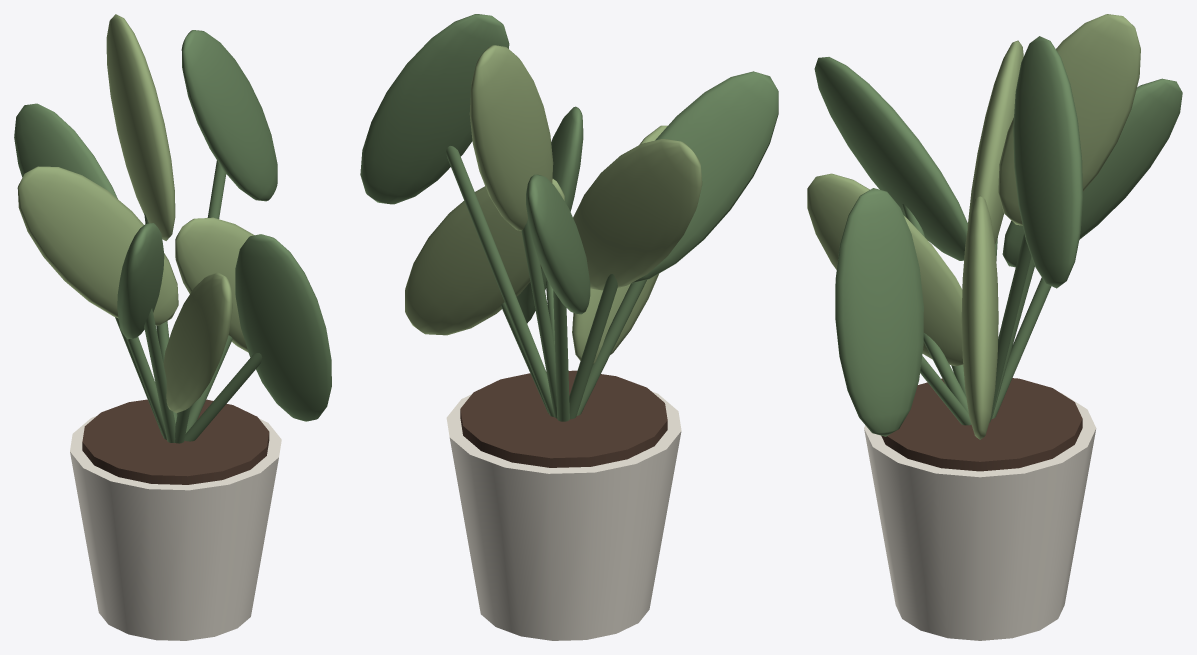
Rendered from plant.glb.
The picture shows the model from 3 angles, left to right: view 1: azimuth 30°, elevation 25°; view 2: azimuth 150°, elevation 25°; view 3: azimuth 270°, elevation 25°; orthographic projection. The views are drawn at different scales.
Parts seen in each view (by area): view 1: Plant_leaf, Plant_leafLight, Plant_cream, Plant_hair; view 2: Plant_leaf, Plant_leafLight, Plant_cream, Plant_hair; view 3: Plant_leaf, Plant_cream, Plant_leafLight, Plant_hair.
Boxes of the visible parts, x1,y1,x2,y2 form: Plant_leaf: (14, 30, 331, 443); Plant_leafLight: (17, 14, 254, 413); Plant_cream: (70, 416, 281, 640); Plant_hair: (82, 399, 269, 484); Plant_leaf: (360, 14, 778, 421); Plant_leafLight: (405, 45, 702, 364); Plant_cream: (446, 391, 681, 640); Plant_hair: (460, 370, 667, 467); Plant_leaf: (814, 36, 1182, 436); Plant_cream: (864, 393, 1096, 640); Plant_leafLight: (807, 14, 1140, 439); Plant_hair: (881, 378, 1082, 471).
Bounding box in the file's own units: 0.6745 × 1.24 × 0.7109.
